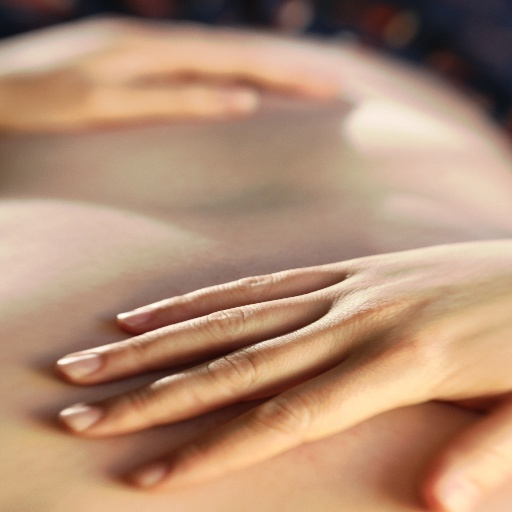hand: (57, 237, 511, 511), (0, 15, 348, 134)
